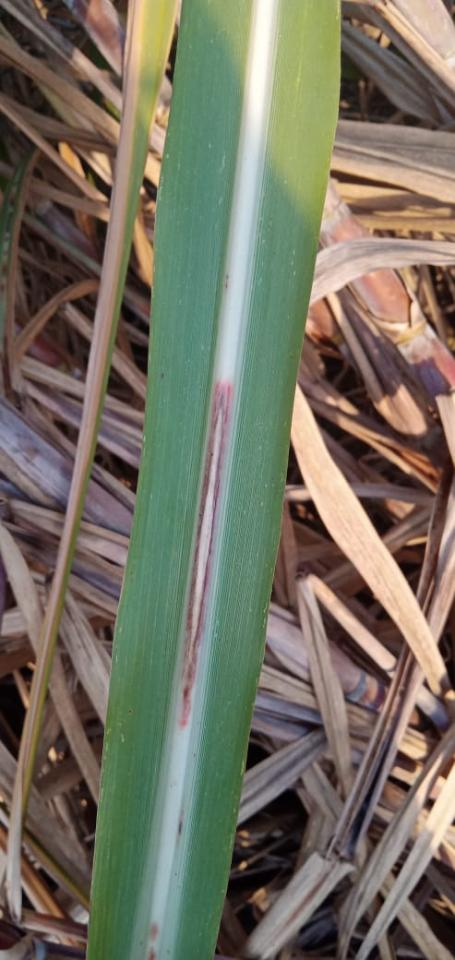RedRot: (178, 376, 231, 727), (147, 920, 159, 959)
